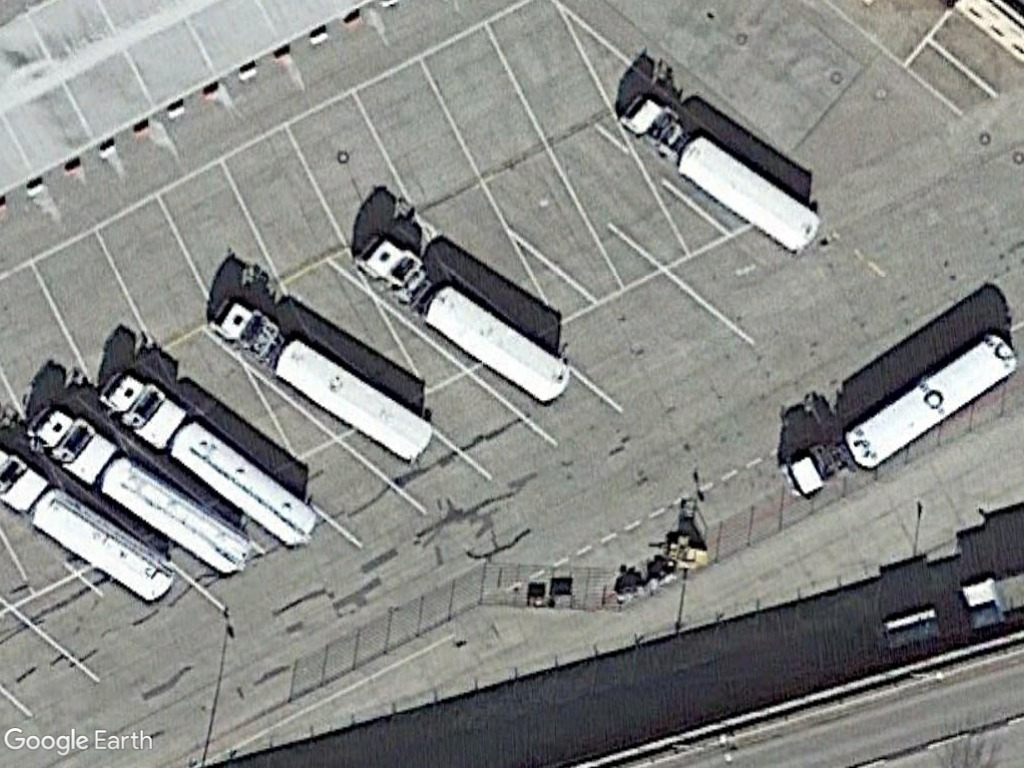longvehicle: (841, 329, 1015, 479), (266, 338, 441, 467), (162, 416, 321, 551), (97, 453, 261, 577), (419, 281, 578, 407), (671, 131, 825, 259), (31, 488, 183, 604)
